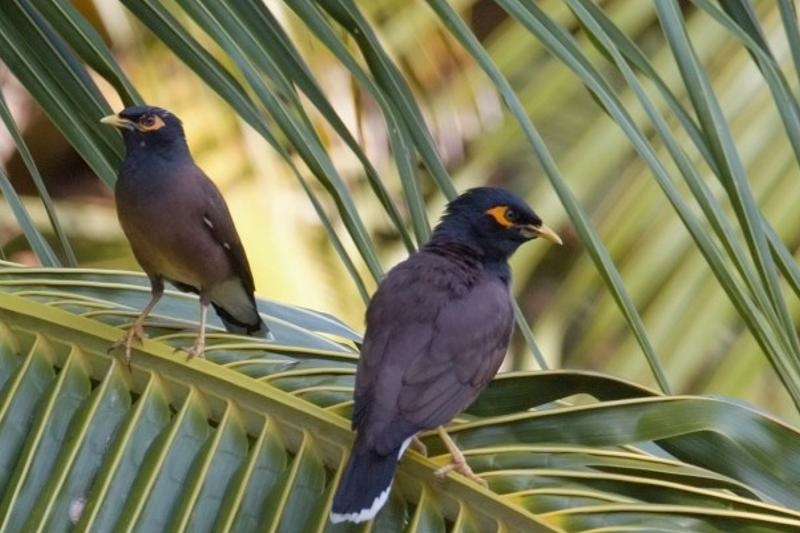myna: (303, 172, 585, 519), (67, 86, 284, 361)
